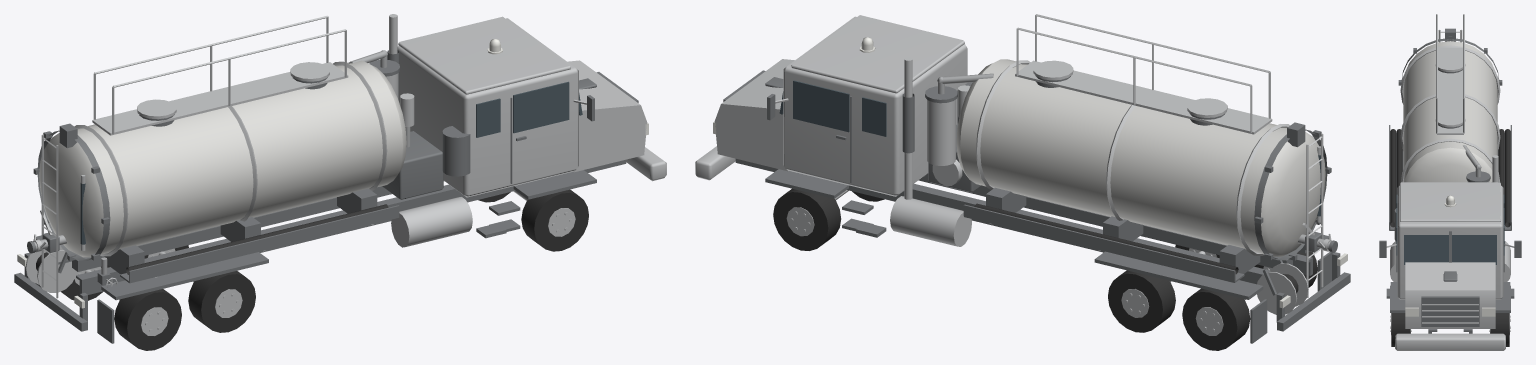
Rendered from truck.glb.
3 renders of one model, left to right at view 1: azimuth 30°, elevation 25°; view 2: azimuth 150°, elevation 25°; view 3: azimuth 270°, elevation 25°, orthographic. The views are drawn at different scales.
Parts seen in each view (by area): view 1: KIT_tank, KIT_steel, KIT_steel_dark, KIT_detail_steel, KIT_detail_steel_dark, KIT_glass, KIT_axle_3_tire, KIT_axle_1_tire, KIT_axle_2_tire, KIT_rubber, KIT_axle_3_hub, KIT_axle_2_hub (+2 smaller); view 2: KIT_tank, KIT_steel, KIT_steel_dark, KIT_detail_steel, KIT_detail_steel_dark, KIT_glass, KIT_axle_3_tire, KIT_axle_1_tire, KIT_axle_2_tire, KIT_rubber, KIT_axle_2_hub, KIT_axle_1_hub (+2 smaller); view 3: KIT_steel, KIT_tank, KIT_detail_steel, KIT_steel_dark, KIT_glass, KIT_rubber, KIT_detail_steel_dark, KIT_axle_1_tire, KIT_headlights, KIT_pipe.
Boxes of the visible parts, box(x1,y1,x2,y2) form: KIT_tank: box(39, 60, 406, 257); KIT_steel: box(25, 14, 666, 292); KIT_steel_dark: box(14, 50, 638, 331); KIT_detail_steel: box(41, 15, 586, 298); KIT_detail_steel_dark: box(35, 95, 596, 343); KIT_glass: box(80, 81, 582, 244); KIT_axle_3_tire: box(61, 265, 181, 350); KIT_axle_1_tire: box(478, 189, 588, 251); KIT_axle_2_tire: box(144, 245, 255, 332); KIT_rubber: box(36, 204, 388, 274); KIT_axle_3_hub: box(74, 266, 168, 335); KIT_axle_2_hub: box(147, 248, 242, 317); KIT_tank: box(956, 59, 1325, 256); KIT_steel: box(695, 15, 1331, 314); KIT_steel_dark: box(723, 70, 1350, 331); KIT_detail_steel: box(775, 14, 1323, 297); KIT_detail_steel_dark: box(765, 94, 1332, 343); KIT_glass: box(779, 80, 1320, 216); KIT_axle_3_tire: box(1182, 251, 1317, 350); KIT_axle_1_tire: box(773, 188, 884, 250); KIT_axle_2_tire: box(1108, 244, 1219, 332); KIT_rubber: box(974, 203, 1298, 293); KIT_axle_2_hub: box(1121, 248, 1216, 317); KIT_axle_1_hub: box(786, 190, 848, 236); KIT_steel: box(1395, 57, 1505, 350); KIT_tank: box(1403, 41, 1497, 182); KIT_detail_steel: box(1386, 14, 1514, 281); KIT_steel_dark: box(1389, 28, 1511, 333); KIT_glass: box(1396, 194, 1504, 264); KIT_rubber: box(1390, 129, 1510, 227); KIT_detail_steel_dark: box(1379, 240, 1521, 312); KIT_axle_1_tire: box(1391, 313, 1509, 346); KIT_headlights: box(1405, 307, 1495, 316); KIT_pipe: box(1463, 145, 1481, 177).
Bounding box in the file's own units: 11.36 × 4.42 × 3.15.
